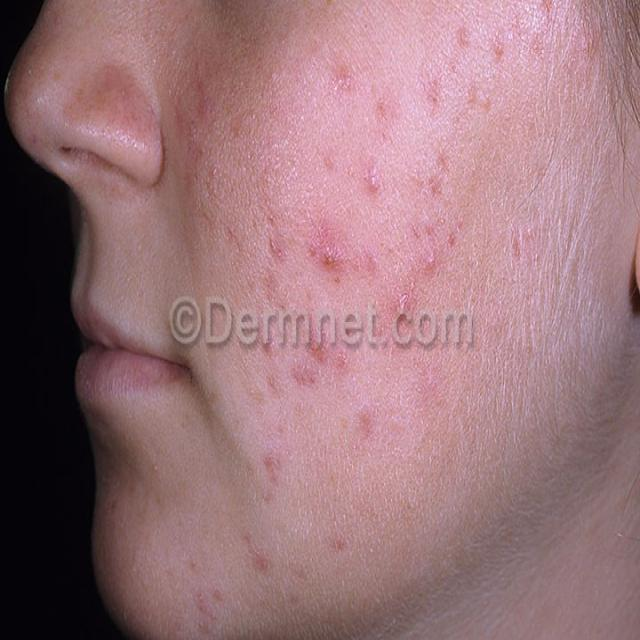Acne: (309, 229, 346, 272), (196, 584, 223, 627), (359, 240, 381, 281), (289, 362, 320, 389), (263, 446, 283, 487), (420, 243, 442, 280), (361, 165, 384, 200), (332, 66, 358, 96), (357, 403, 375, 442), (266, 235, 288, 265), (488, 36, 509, 64), (454, 22, 473, 52), (251, 548, 271, 576)
